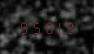five: (29, 20, 39, 34)
nine: (18, 20, 28, 34), (62, 20, 72, 34)
one: (51, 20, 61, 34)
zero: (40, 20, 50, 34)
